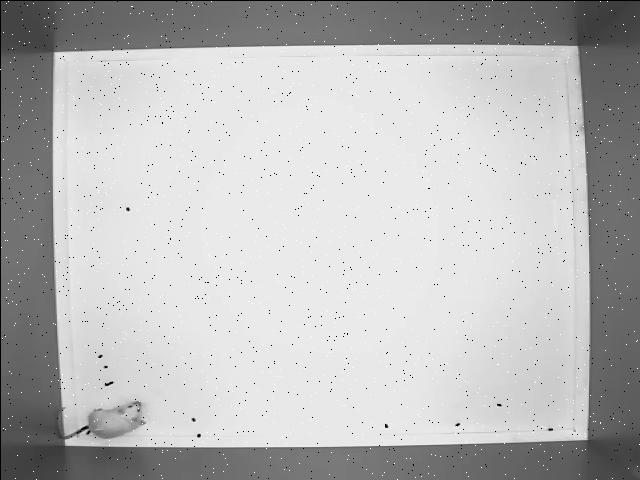Tikus: (49, 395, 149, 445)
